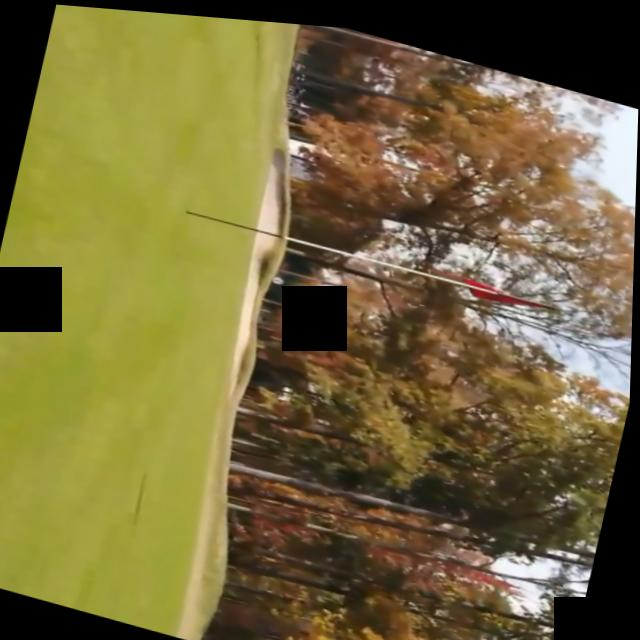Pole: (179, 190, 574, 318)
